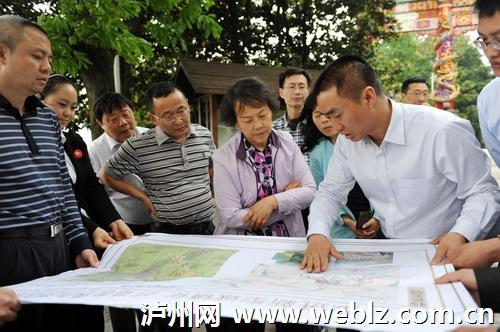person: (299, 53, 500, 273), (1, 13, 105, 331), (433, 0, 500, 331), (36, 73, 135, 257), (99, 81, 217, 235), (211, 76, 318, 237), (300, 88, 383, 239), (87, 92, 157, 235), (471, 0, 500, 169), (399, 76, 430, 104), (0, 287, 22, 326)
